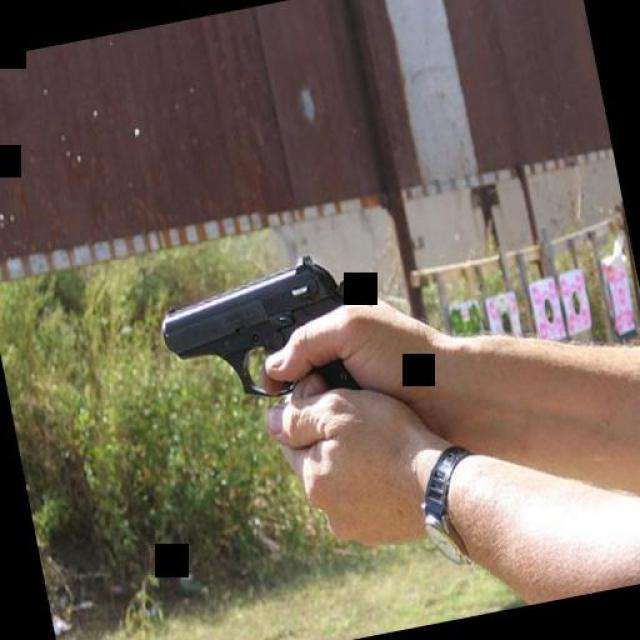gun: (152, 243, 386, 428)
